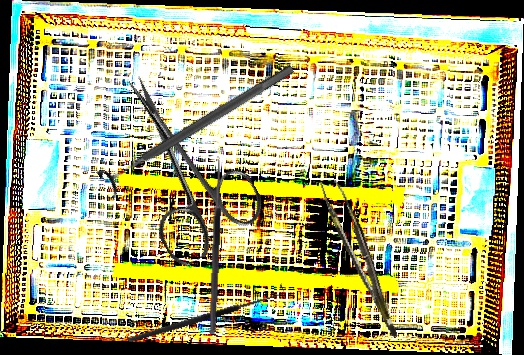Fixation Ring: (95, 53, 302, 201)
Hook Surgical: (125, 282, 286, 345), (200, 155, 224, 334)
Iris Scissors: (84, 53, 273, 271)
Tissue Forceps: (319, 173, 398, 344)
